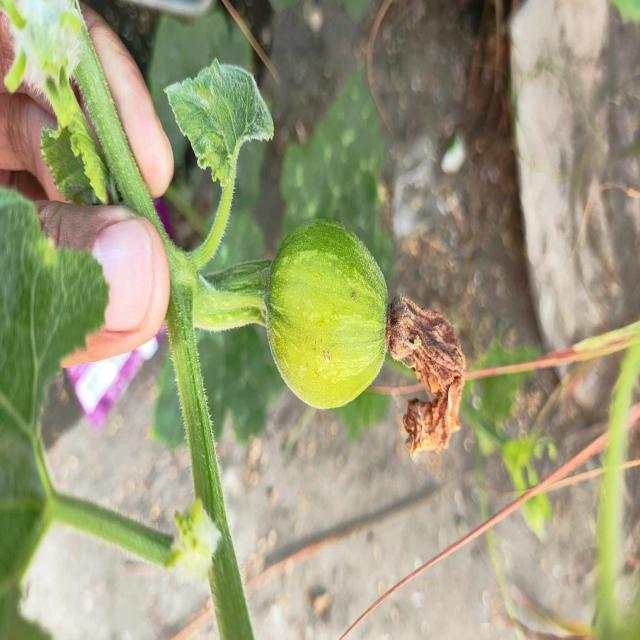squash: (261, 213, 391, 421)
